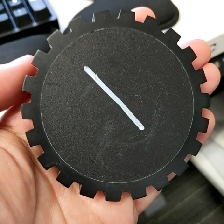gear: (19, 7, 212, 203)
